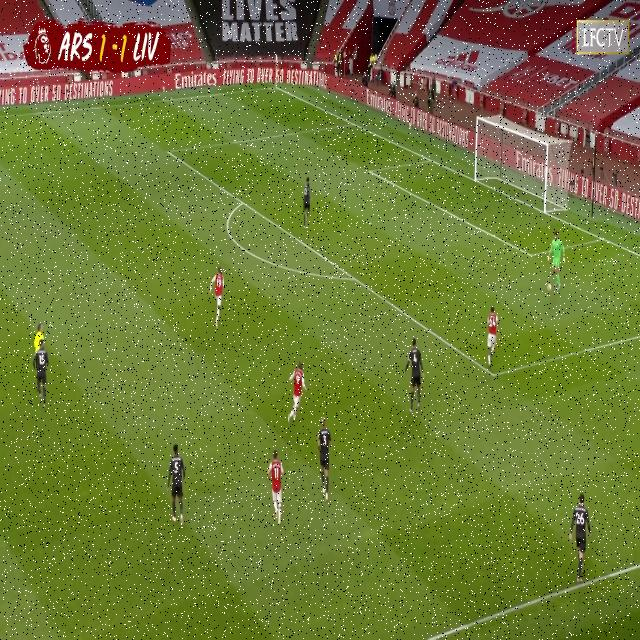Ball: (547, 281, 552, 292)
GoalKeeper: (548, 231, 566, 294)
TEAM 1: (268, 449, 285, 527), (286, 363, 307, 425), (210, 267, 225, 328), (486, 306, 500, 368)
TEAM 2: (569, 495, 594, 585), (167, 444, 187, 528), (404, 338, 425, 416), (32, 336, 50, 411), (316, 420, 330, 500), (302, 178, 312, 228)
